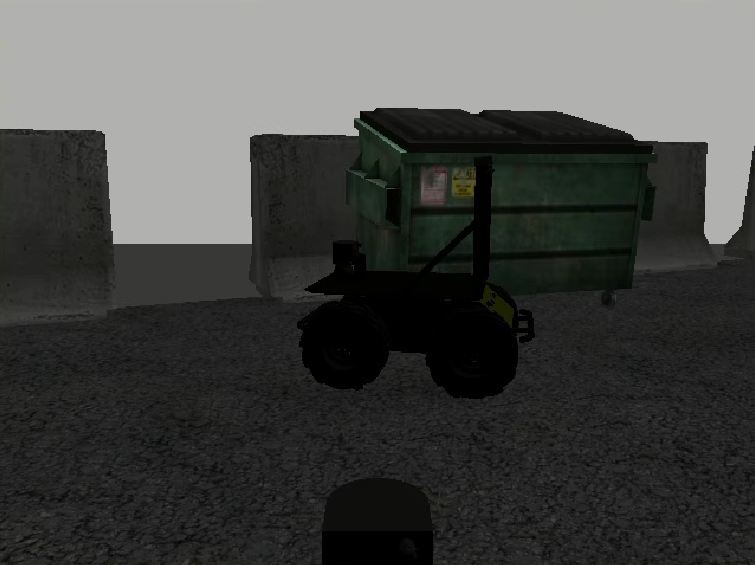husky: (296, 271, 534, 399)
